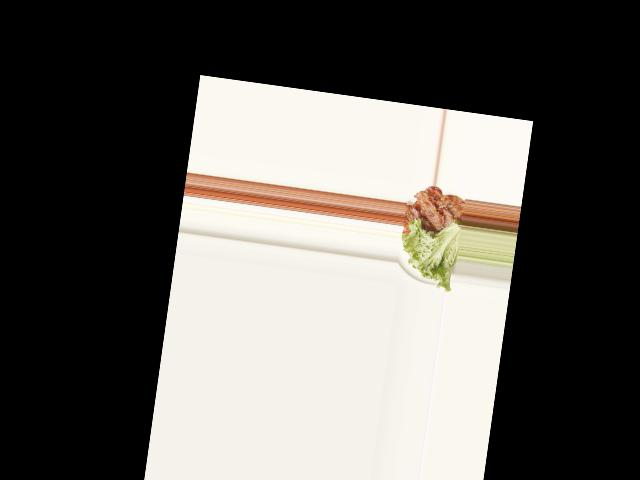lettuce: (397, 216, 462, 289)
